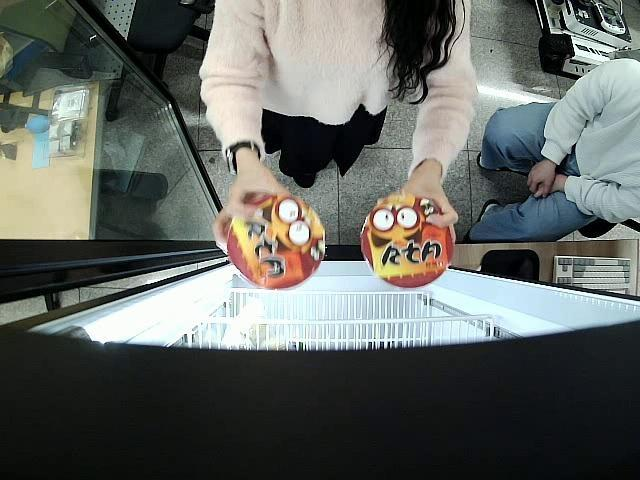05_nuguri_L: (228, 193, 326, 288), (360, 192, 453, 288)
